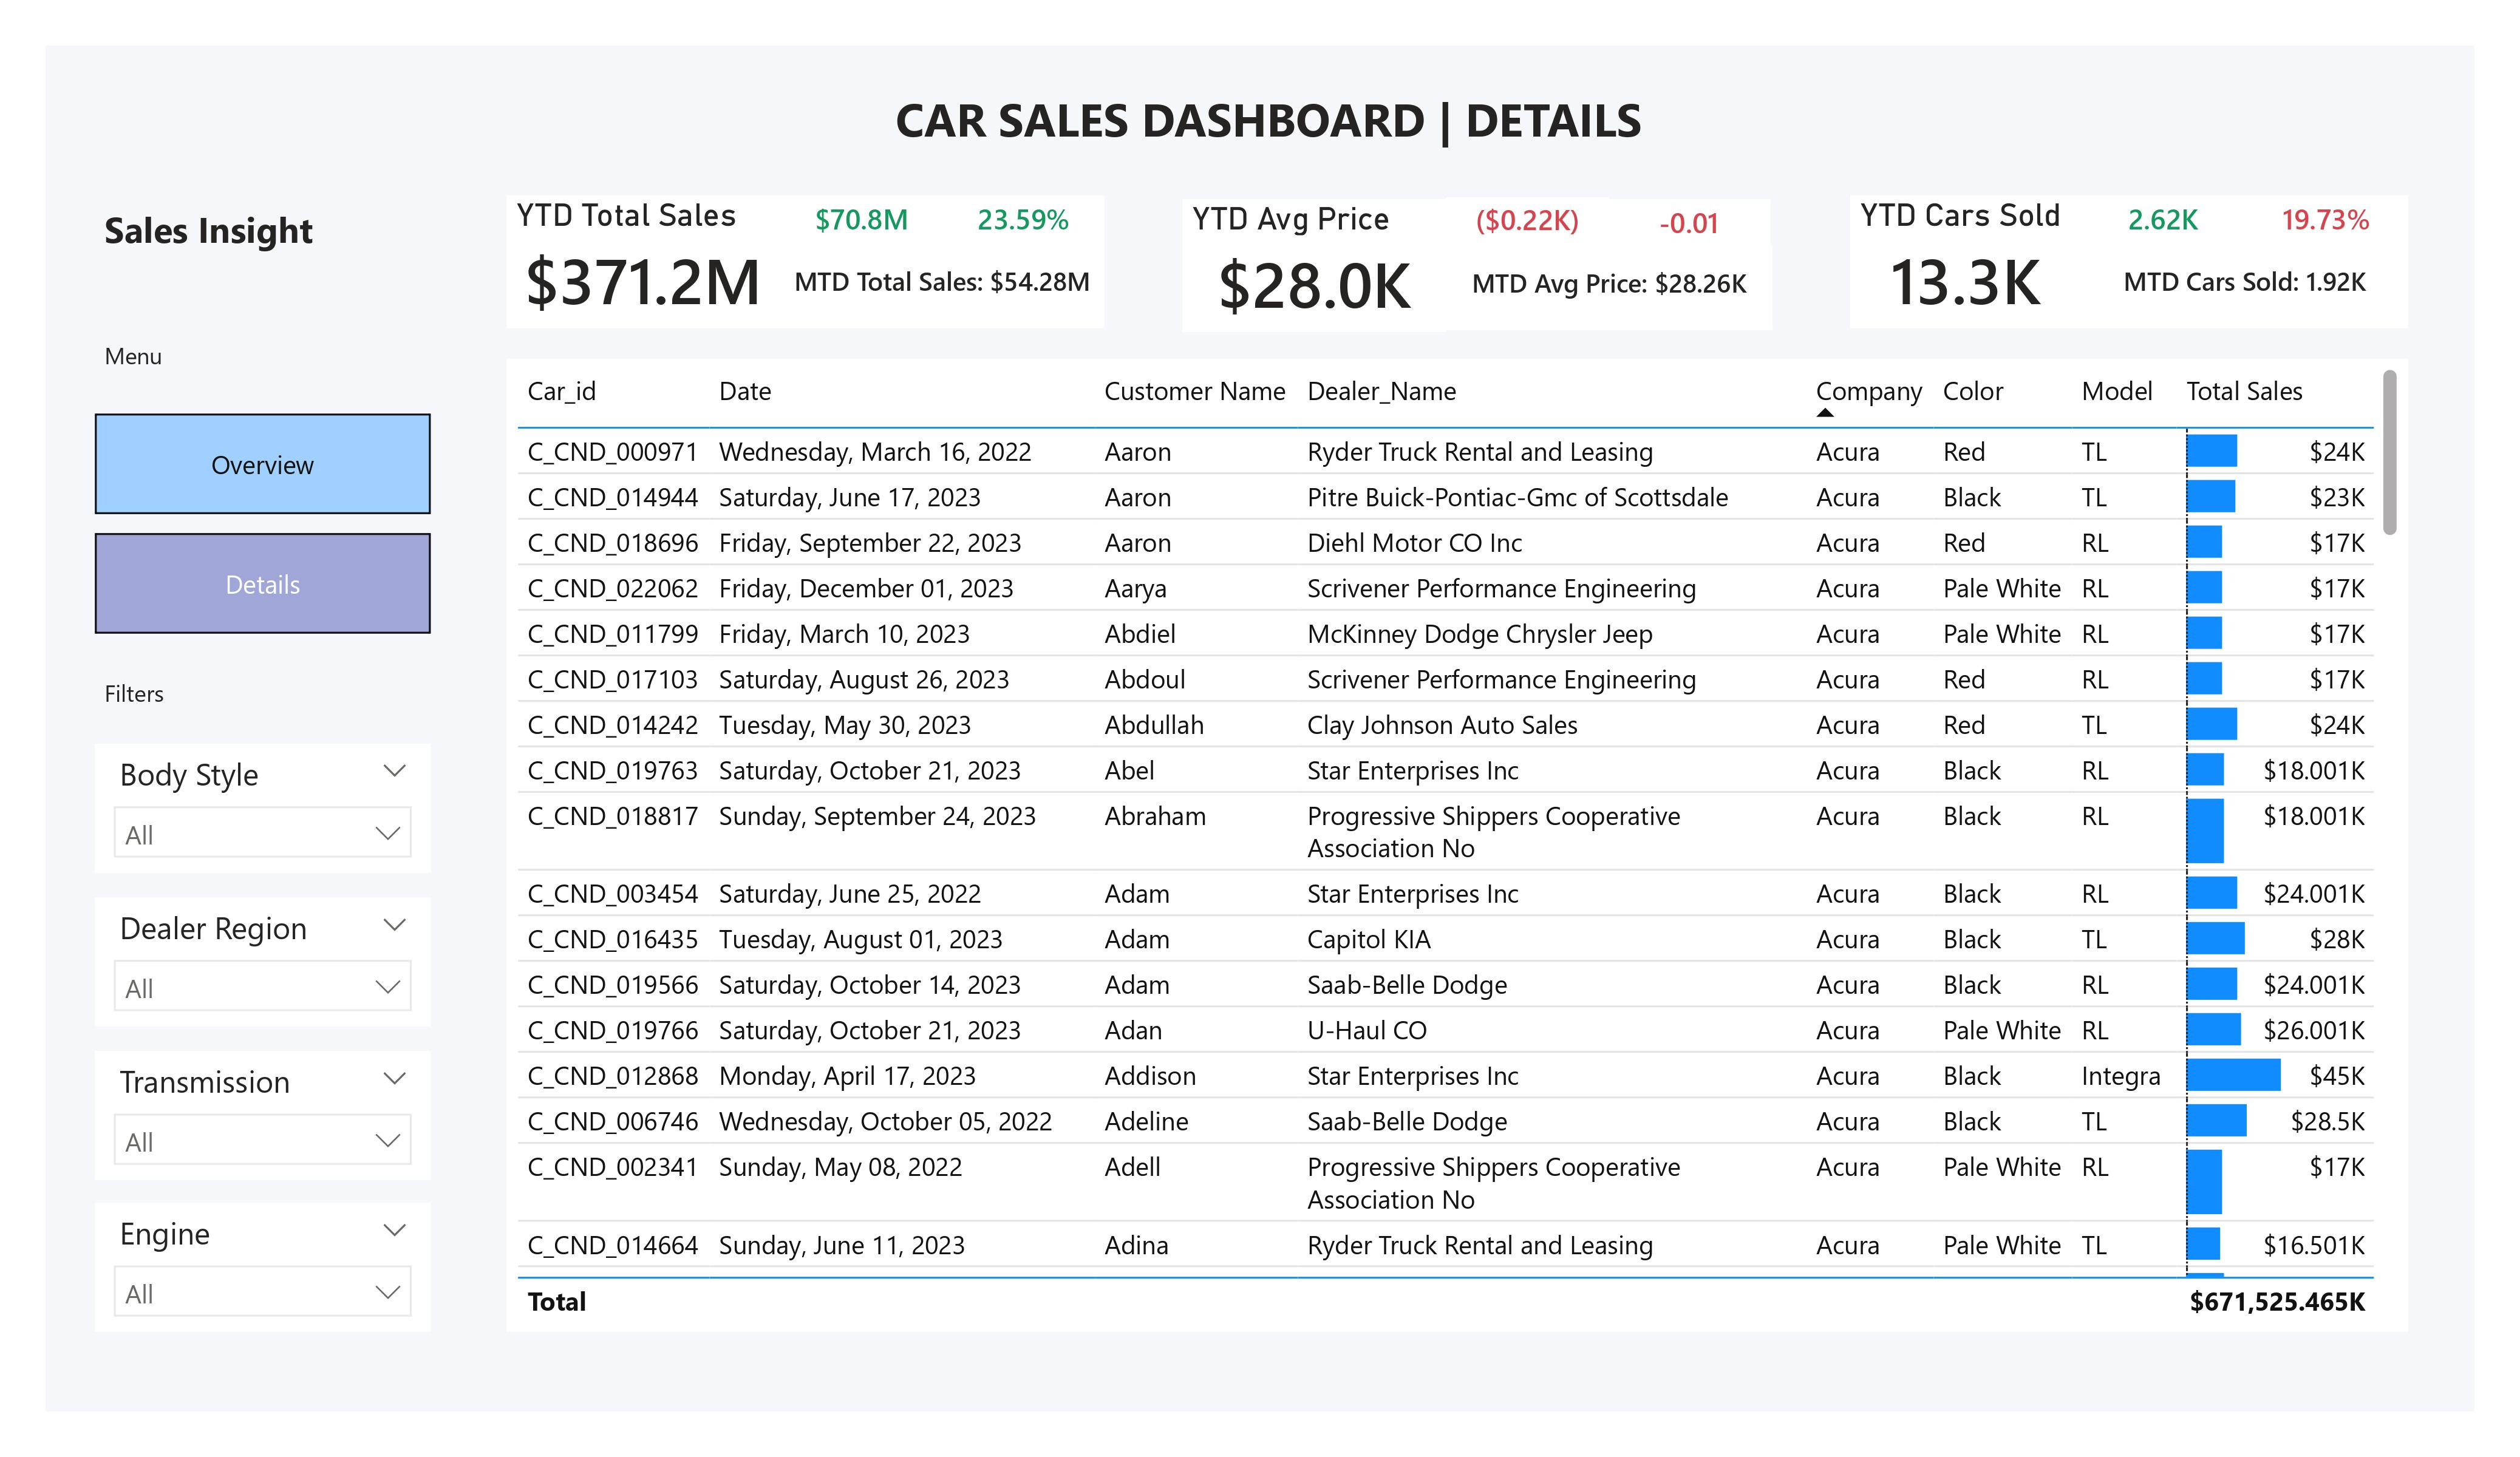

The page's visual inventory and layout, read from the dashboard file:
{"tool":"powerbi","page":{"name":"Details","canvas":[1280,720],"ordinal":1},"visuals":[{"type":"card","title":"YTD Total Sales","fields":{"Values":["car_data.YTTD Total Sales"]},"box":[243,79.1,143.7,70.1],"z":0},{"type":"card","fields":{"Values":["car_data.Sales Difference"]},"box":[386.6,79.1,86.1,25],"z":1000},{"type":"card","fields":{"Values":["car_data.YoY Sales Growth"]},"box":[472.7,79.1,85.4,25],"z":2000},{"type":"card","fields":{"Values":["car_data.MTD KPI"]},"box":[386.6,104.1,171.5,45.1],"z":3000},{"type":"card","title":"YTD Avg Price","fields":{"Values":["car_data.YTD Avg Price"]},"box":[599,80.5,138.8,70.1],"z":4000},{"type":"card","fields":{"Values":["car_data.Average Price Difference"]},"box":[738.2,80.2,86.1,25.3],"z":5000},{"type":"card","fields":{"Values":["car_data.YoY Avg Price Growth"]},"box":[823.3,80.5,86.1,25],"z":6000},{"type":"card","fields":{"Values":["car_data.MTD Avg Price KPI"]},"box":[738.2,104.8,171.4,45.6],"z":7000},{"type":"card","title":"YTD Cars Sold","fields":{"Values":["car_data.YTD Cars Sold"]},"box":[951,79.1,122.2,70.1],"z":8000},{"type":"card","fields":{"Values":["car_data.Cars Sold Diff"]},"box":[1073.1,79.1,86.1,25],"z":9000},{"type":"card","fields":{"Values":["car_data.YoY Car Sold Growth"]},"box":[1159.2,79.1,86.1,25],"z":10000},{"type":"card","fields":{"Values":["car_data.MTD Cars Sold KPI"]},"box":[1073.1,104.1,172.1,45.1],"z":11000},{"type":"textbox","box":[442.9,16.7,451.2,47.2],"z":12000},{"type":"slicer","fields":{"Values":["car_data.Body Style"]},"box":[26.4,367.9,176.3,68],"z":13000},{"type":"slicer","fields":{"Values":["car_data.Dealer_Region"]},"box":[26.4,449.1,176.3,68],"z":14000},{"type":"slicer","fields":{"Values":["car_data.Transmission"]},"box":[26.4,529.6,176.3,68],"z":15000},{"type":"slicer","fields":{"Values":["car_data.Engine"]},"box":[26.4,610.2,176.3,68],"z":16000},{"type":"textbox","box":[26.4,326.9,53.4,30.5],"z":17000},{"type":"textbox","box":[25.7,79.1,147.2,35.4],"z":18000},{"type":"textbox","box":[26.4,149.2,53.4,29.8],"z":19000},{"type":"pageNavigator","box":[25.7,193.7,177,117.3],"z":20000},{"type":"tableEx","fields":{"Values":["car_data.Car_id","car_data.Date","car_data.Customer Name","car_data.Dealer_Name","car_data.Company","car_data.Color","car_data.Model","car_data.Price ($)"]},"box":[243,164.5,1002.3,513.7],"z":21000}]}

Visuals, with their boxes on the page's 1280x720 design canvas (x1, y1, x2, y2). These are canvas units, not pixel positions in the 2520x1457 screenshot, which may show the page scaled, cropped or inside an application window:
"YTD Total Sales" card: region(243, 79, 387, 149)
card - car_data.Sales Difference: region(387, 79, 473, 104)
card - car_data.YoY Sales Growth: region(473, 79, 558, 104)
card - car_data.MTD KPI: region(387, 104, 558, 149)
"YTD Avg Price" card: region(599, 80, 738, 151)
card - car_data.Average Price Difference: region(738, 80, 824, 106)
card - car_data.YoY Avg Price Growth: region(823, 80, 909, 106)
card - car_data.MTD Avg Price KPI: region(738, 105, 910, 150)
"YTD Cars Sold" card: region(951, 79, 1073, 149)
card - car_data.Cars Sold Diff: region(1073, 79, 1159, 104)
card - car_data.YoY Car Sold Growth: region(1159, 79, 1245, 104)
card - car_data.MTD Cars Sold KPI: region(1073, 104, 1245, 149)
textbox: region(443, 17, 894, 64)
slicer - car_data.Body Style: region(26, 368, 203, 436)
slicer - car_data.Dealer_Region: region(26, 449, 203, 517)
slicer - car_data.Transmission: region(26, 530, 203, 598)
slicer - car_data.Engine: region(26, 610, 203, 678)
textbox: region(26, 327, 80, 357)
textbox: region(26, 79, 173, 114)
textbox: region(26, 149, 80, 179)
pageNavigator: region(26, 194, 203, 311)
tableEx - car_data.Car_id x car_data.Date: region(243, 164, 1245, 678)
